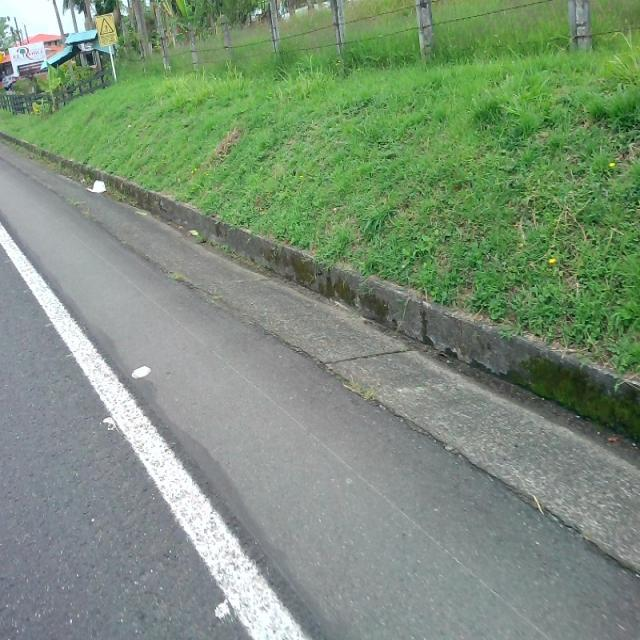DITCH: (1, 133, 639, 638), (1, 136, 639, 638)
